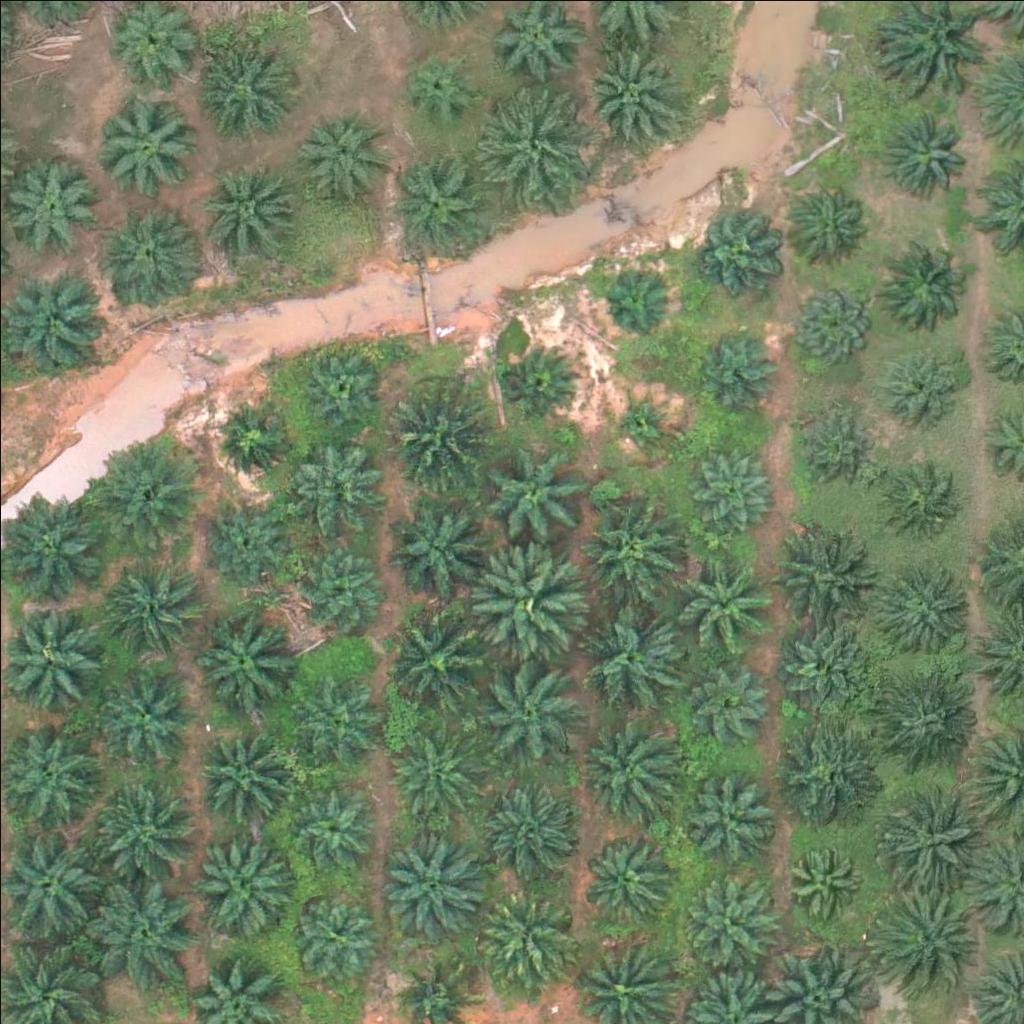Kelapa_Sawit: (569, 710, 682, 824), (477, 85, 590, 199), (774, 715, 887, 828), (463, 545, 576, 658), (189, 610, 302, 723), (87, 874, 200, 987), (90, 430, 203, 543), (1, 609, 114, 722), (465, 650, 577, 764), (868, 884, 980, 997), (871, 776, 983, 889), (863, 663, 975, 776), (571, 601, 683, 714), (572, 499, 684, 612), (469, 436, 581, 549), (376, 830, 488, 943), (376, 605, 488, 718), (378, 384, 490, 497), (188, 827, 300, 940), (85, 770, 197, 883), (97, 549, 209, 662), (873, 558, 973, 659), (681, 867, 781, 968), (672, 554, 772, 655), (473, 891, 573, 992), (381, 728, 481, 829), (388, 494, 488, 595), (385, 150, 485, 251), (290, 427, 390, 528), (197, 727, 297, 828), (7, 272, 107, 373), (99, 207, 199, 308), (199, 158, 299, 259), (94, 97, 194, 198), (198, 37, 298, 138), (771, 532, 871, 632), (472, 778, 572, 878), (98, 670, 198, 770), (3, 157, 103, 257), (577, 42, 677, 142), (873, 445, 961, 533), (686, 780, 774, 868), (678, 659, 766, 747), (686, 439, 774, 527), (689, 200, 777, 288), (206, 395, 294, 483), (294, 787, 382, 875), (296, 108, 384, 196), (785, 173, 872, 261), (790, 280, 877, 368), (790, 401, 877, 489), (880, 341, 967, 429), (884, 241, 971, 329), (779, 834, 866, 922), (778, 617, 865, 705), (692, 333, 779, 421), (578, 827, 665, 915), (297, 896, 384, 984), (292, 669, 379, 757), (296, 544, 383, 632), (294, 340, 381, 428), (201, 499, 288, 587), (879, 104, 966, 192), (504, 344, 579, 420), (401, 50, 476, 126), (598, 262, 673, 337), (609, 385, 672, 448)
